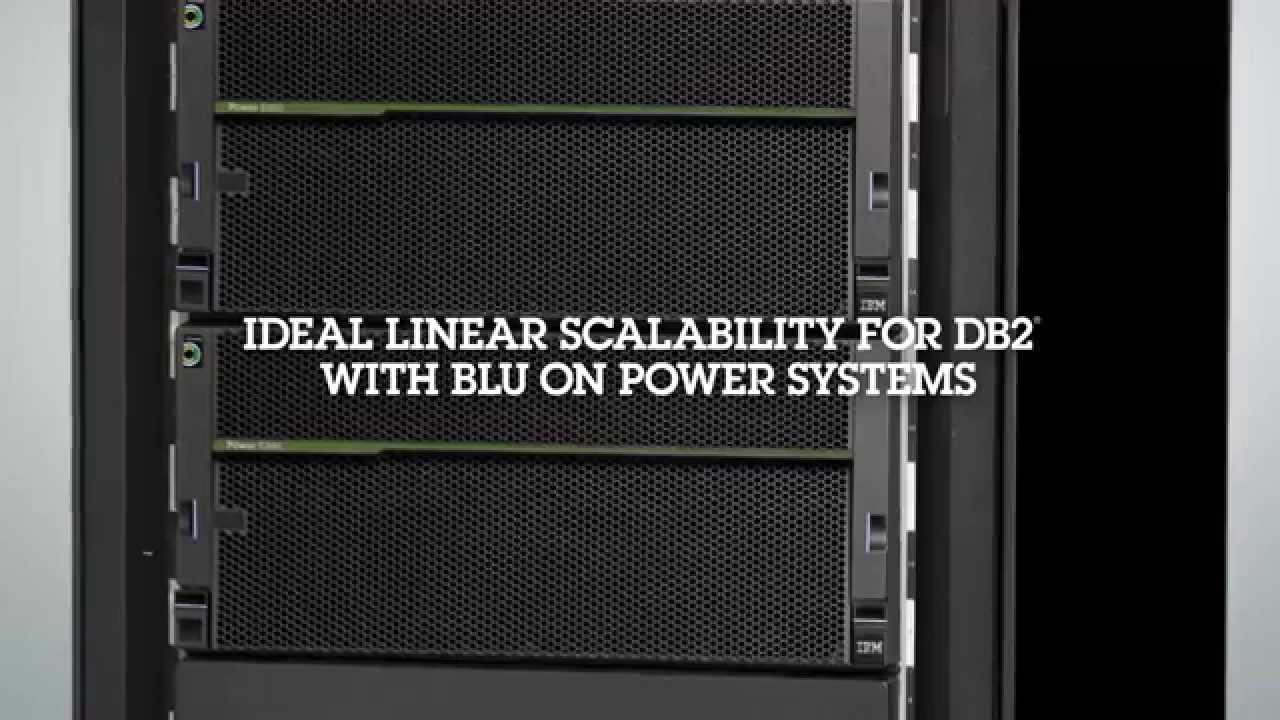ibm-server: (156, 435, 884, 690)
